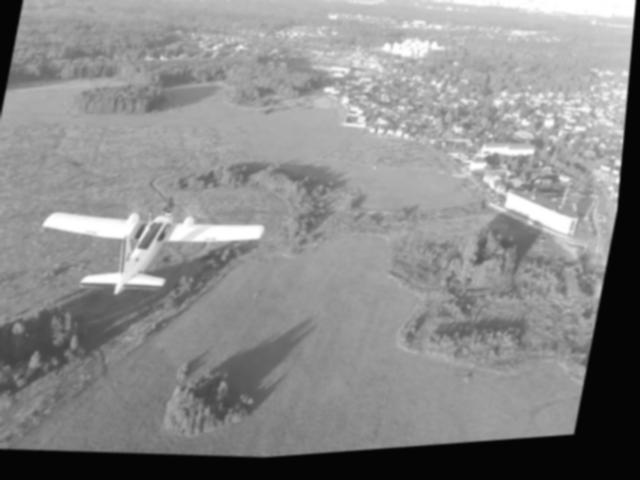hedef: (30, 186, 278, 319)
